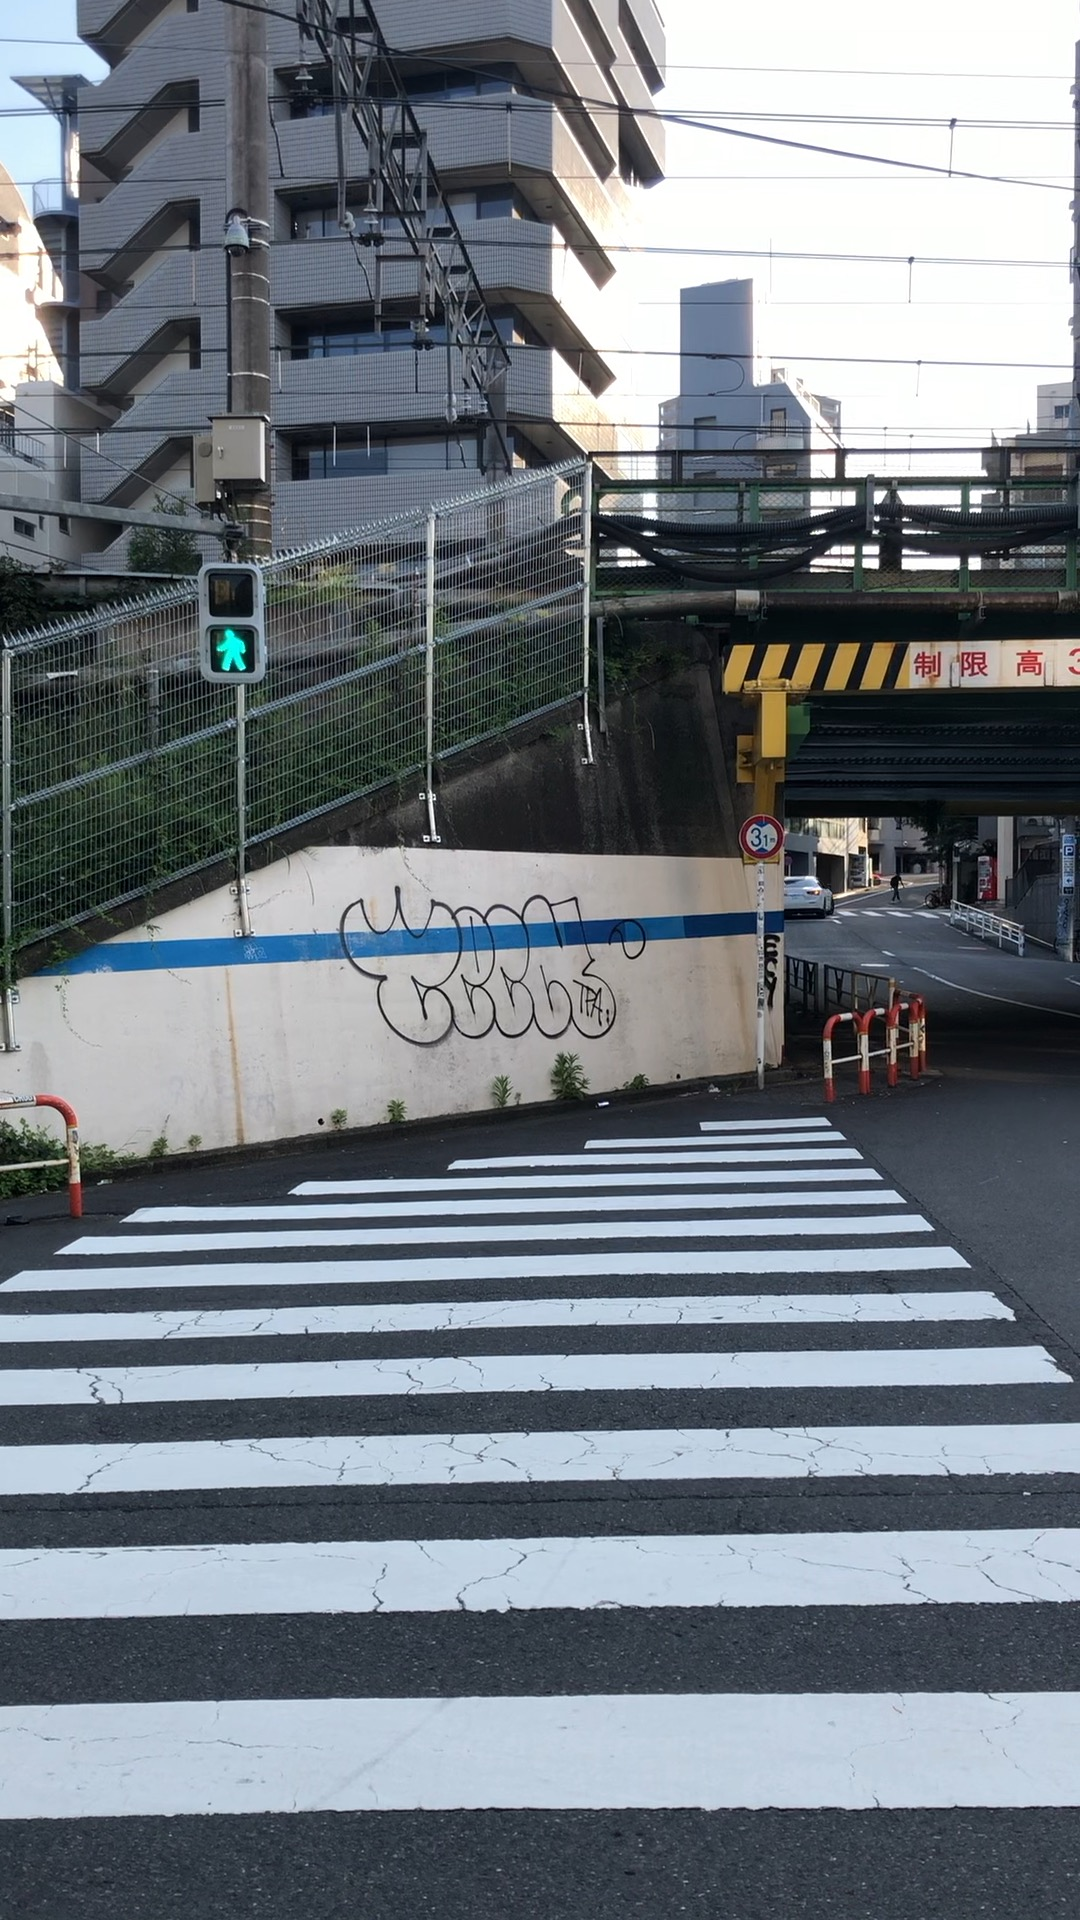green: (194, 560, 266, 686)
